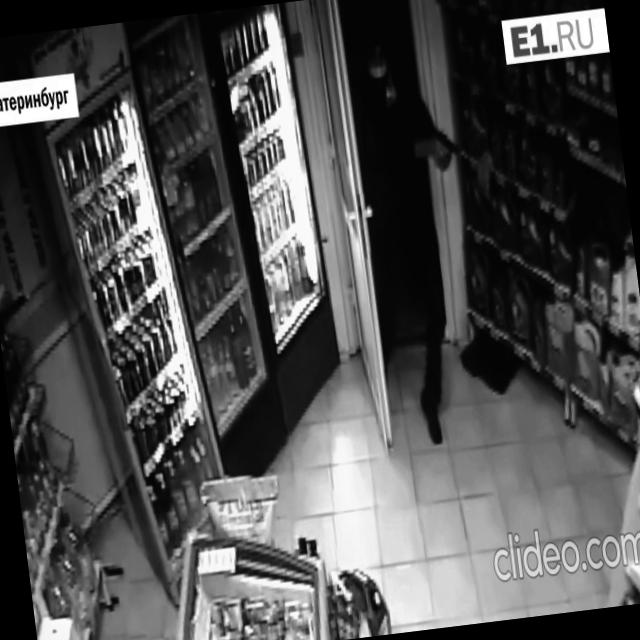gun: (429, 120, 461, 163)
person with a gun: (342, 5, 498, 452)
